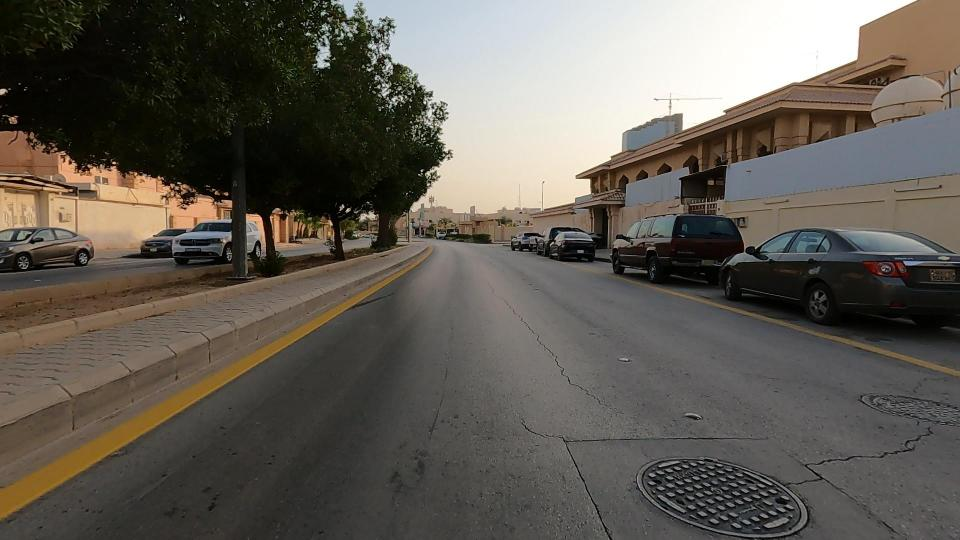POTHOLES: (730, 388, 960, 522), (468, 267, 635, 442)
